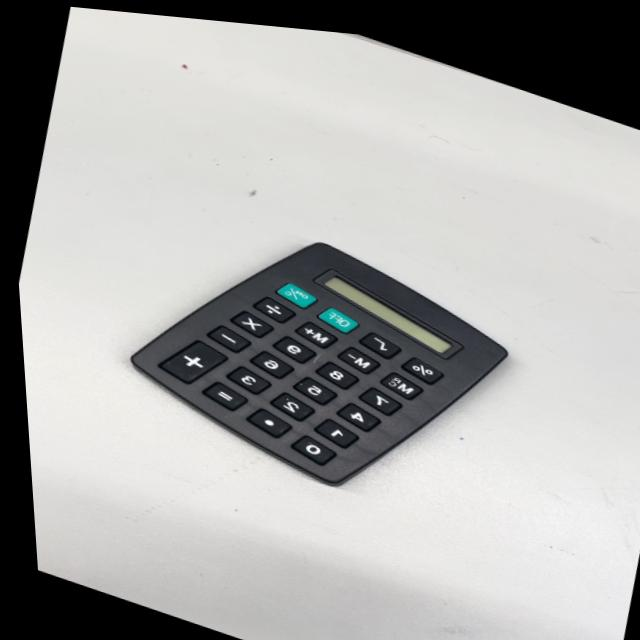calculator: (106, 180, 526, 535)
